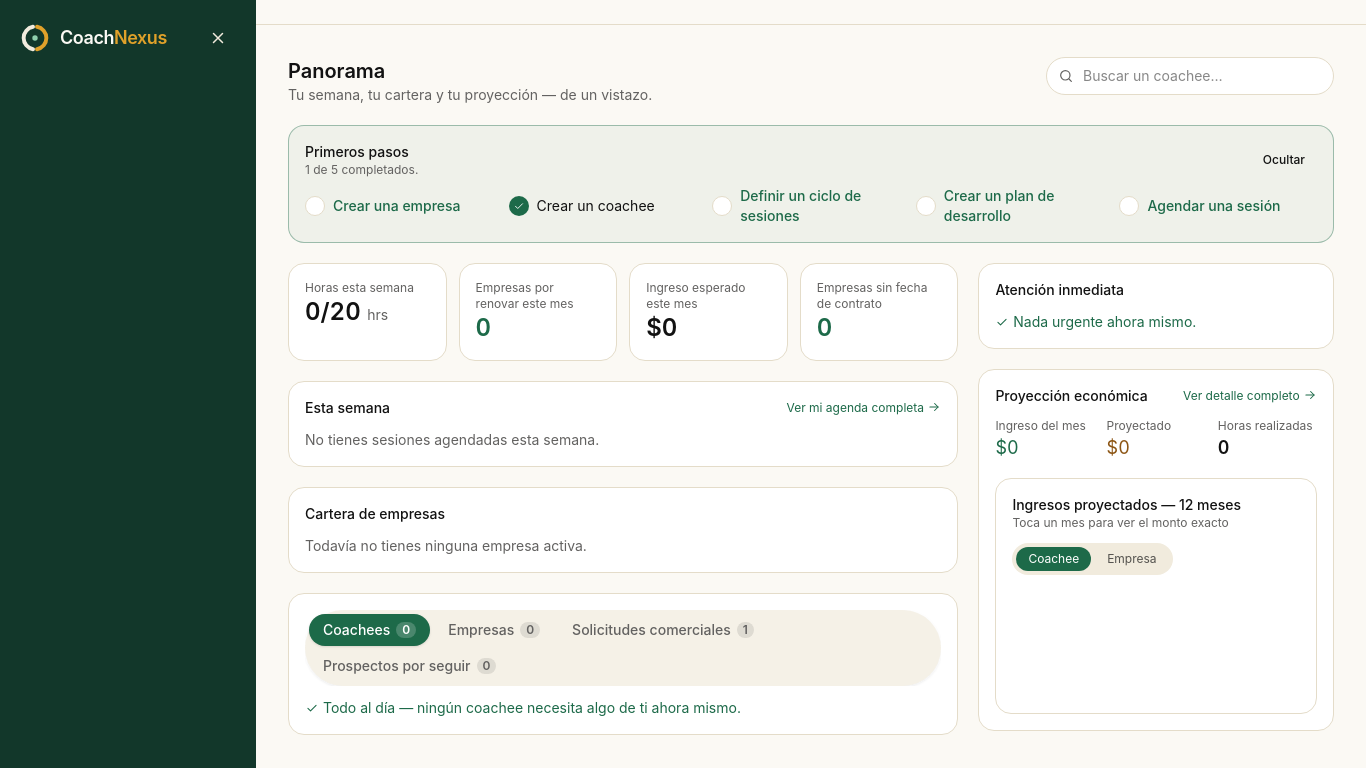
Test: DashboardView › shows solicitudes comerciales in their own tab
This screenshot has width=1366, height=768.
Click the tab "Solicitudes comerciales 1". click: (663,630)
box: [558, 614, 768, 646]
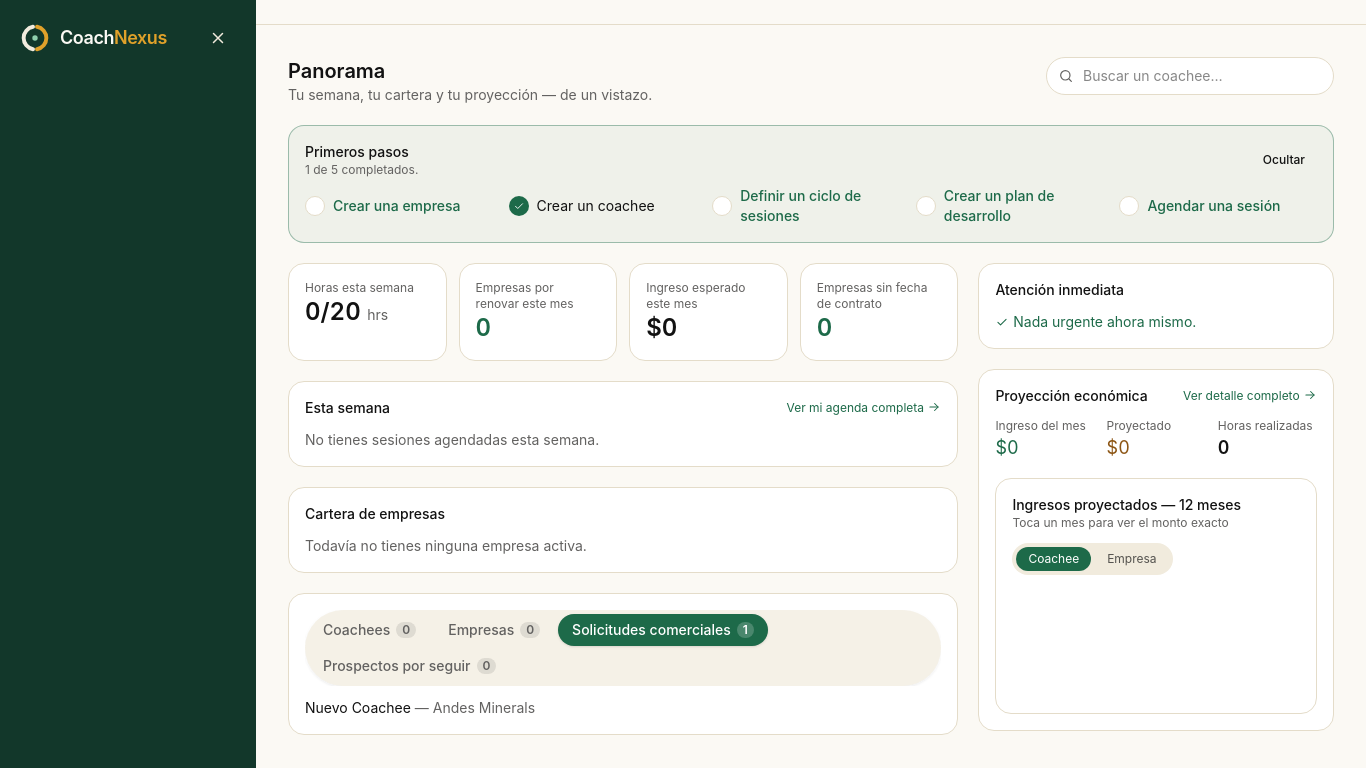
Check: the text "Nuevo Coachee" is shown, box [305, 699, 415, 716]
Check: the text "Andes Minerals" is shown, box [415, 699, 535, 716]
